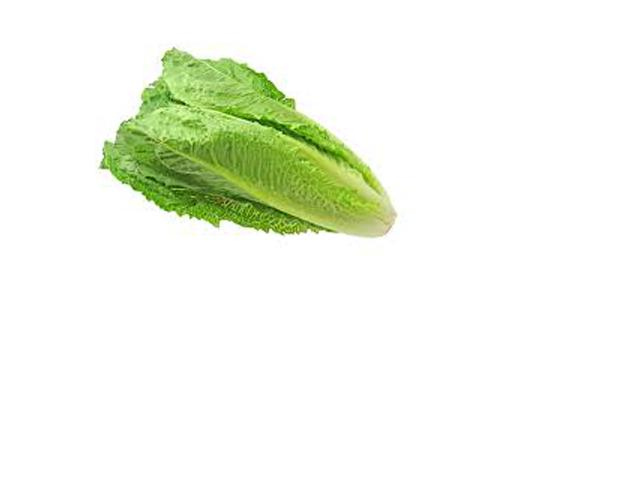lettuce: (98, 46, 422, 240)
